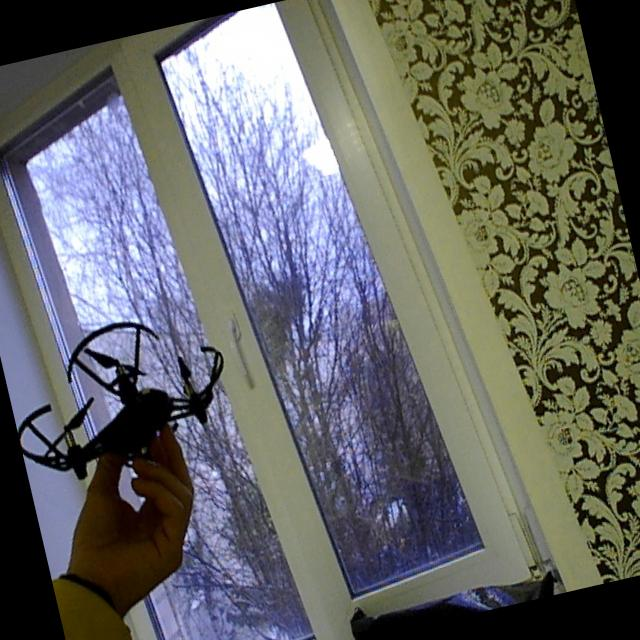drone: (0, 276, 260, 539)
